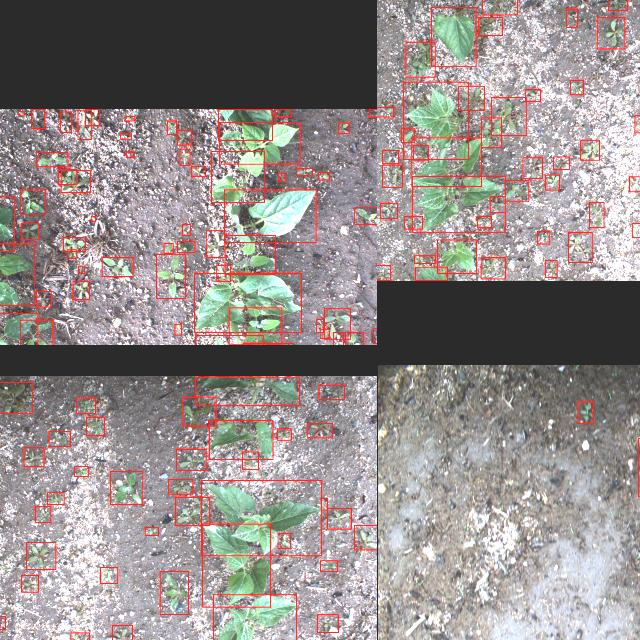crop: (201, 480, 321, 556), (194, 274, 300, 332), (202, 524, 270, 606), (412, 176, 504, 232), (402, 82, 468, 160), (223, 190, 315, 242), (212, 595, 295, 640), (218, 122, 300, 164), (411, 138, 481, 186), (195, 376, 299, 404), (430, 6, 476, 66), (210, 152, 264, 202), (208, 420, 272, 460), (0, 243, 34, 305), (224, 235, 274, 275), (228, 308, 282, 344), (218, 108, 272, 140), (436, 240, 476, 274), (0, 313, 37, 345), (414, 267, 446, 281)
weed: (490, 97, 526, 135), (158, 572, 188, 614), (156, 254, 184, 298), (110, 471, 142, 505), (175, 496, 209, 526), (182, 396, 215, 426), (0, 381, 31, 412), (406, 42, 434, 76), (596, 17, 624, 48), (25, 542, 55, 570), (19, 320, 52, 345), (323, 309, 349, 339), (567, 233, 591, 263), (60, 170, 90, 192), (175, 448, 205, 470), (457, 86, 483, 110), (101, 257, 132, 277), (481, 118, 501, 148), (20, 190, 44, 214), (354, 524, 377, 549), (504, 180, 528, 202), (480, 258, 506, 278), (206, 230, 224, 258), (481, 0, 516, 14), (326, 508, 350, 528), (382, 165, 402, 188), (36, 152, 68, 166), (478, 17, 502, 35), (588, 202, 604, 228), (306, 422, 332, 438), (318, 384, 344, 400), (522, 158, 542, 178), (23, 446, 43, 466), (316, 615, 338, 633), (354, 207, 377, 224), (168, 478, 192, 494), (78, 109, 90, 139), (580, 140, 598, 160), (20, 222, 38, 240), (20, 574, 38, 592), (85, 417, 103, 435), (63, 237, 85, 251), (112, 625, 132, 640), (49, 432, 70, 446), (72, 282, 88, 300), (57, 168, 75, 184), (241, 451, 257, 469), (578, 402, 592, 422), (379, 203, 396, 219), (343, 332, 363, 345), (100, 567, 116, 583), (34, 506, 50, 522), (76, 398, 94, 412), (59, 111, 71, 131), (31, 110, 44, 128), (404, 217, 422, 230), (176, 130, 192, 144), (85, 109, 99, 125), (36, 291, 50, 307), (216, 265, 230, 281), (545, 174, 559, 190), (490, 196, 504, 212), (382, 150, 398, 164), (412, 146, 428, 160), (553, 156, 569, 170), (544, 260, 556, 278), (46, 492, 64, 504), (319, 560, 336, 572), (607, 0, 627, 10), (566, 8, 576, 28), (276, 534, 290, 548), (524, 89, 540, 101), (401, 128, 414, 142), (176, 242, 194, 252), (628, 176, 640, 191), (377, 265, 389, 280), (477, 216, 491, 228), (570, 80, 582, 94), (179, 149, 189, 165), (377, 107, 393, 117), (414, 256, 434, 264), (333, 332, 345, 345), (191, 166, 205, 177), (276, 428, 290, 439), (69, 632, 88, 640), (537, 232, 549, 244), (166, 120, 176, 134), (74, 466, 88, 476), (274, 109, 290, 117), (296, 168, 312, 176), (631, 223, 640, 237), (633, 115, 640, 132), (144, 527, 158, 535), (338, 122, 348, 132), (317, 172, 328, 180), (181, 223, 189, 234), (164, 243, 172, 253), (320, 329, 328, 339), (66, 250, 76, 258), (368, 109, 377, 117), (316, 320, 322, 332), (321, 498, 327, 510), (173, 324, 180, 334), (278, 172, 284, 182), (373, 328, 377, 343), (0, 616, 4, 630), (77, 266, 83, 274), (120, 134, 130, 138), (126, 116, 134, 120), (125, 152, 133, 156), (18, 111, 24, 115), (90, 216, 96, 220)
